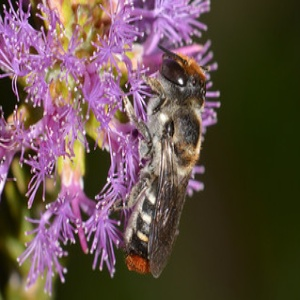bee: (126, 43, 209, 278)
